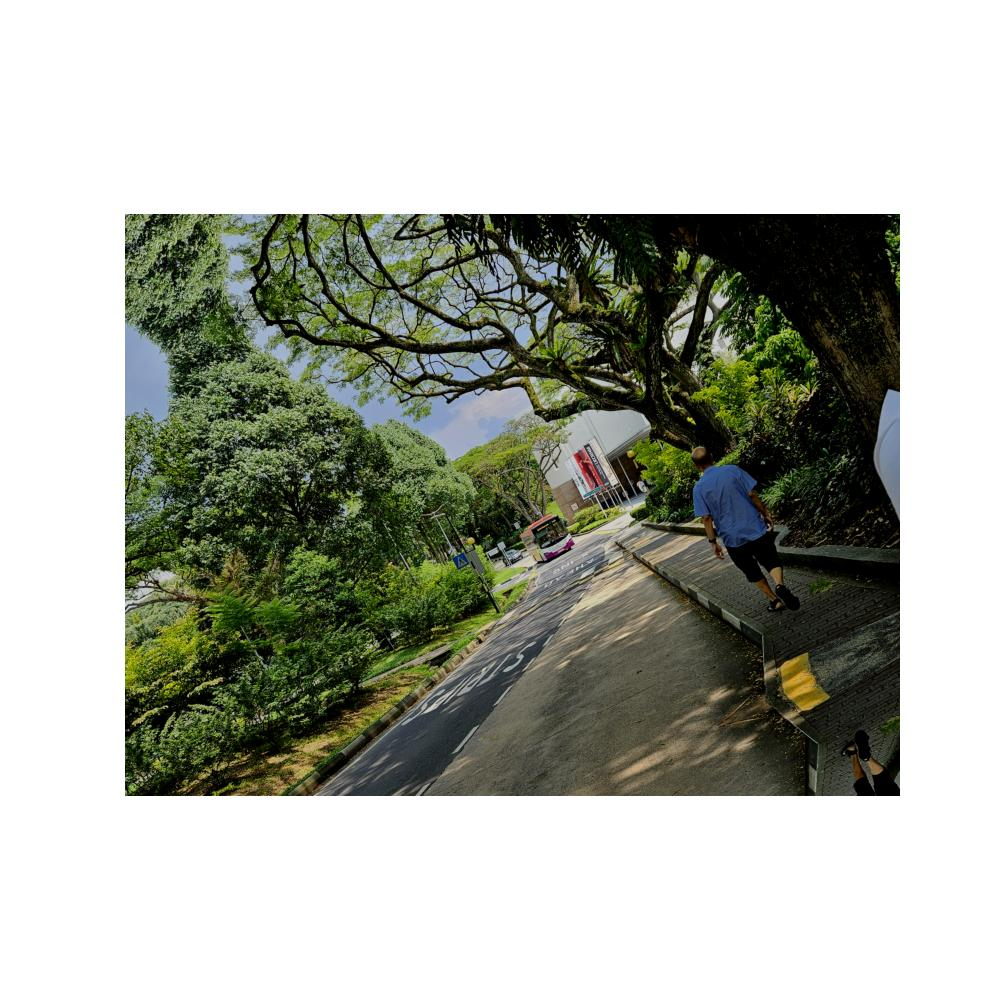bus: (518, 512, 574, 561)
